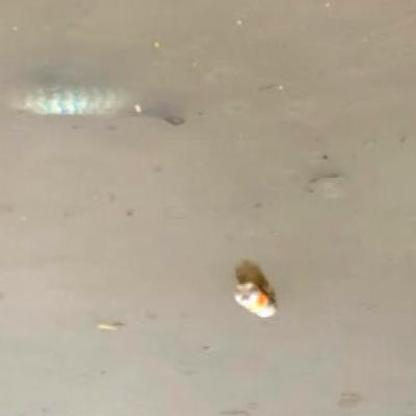plastic bottle: (236, 284, 275, 318)
